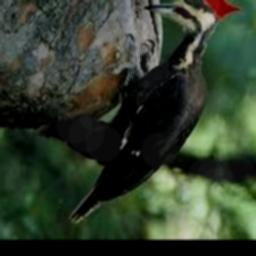Woodpecker: (67, 0, 241, 221)
